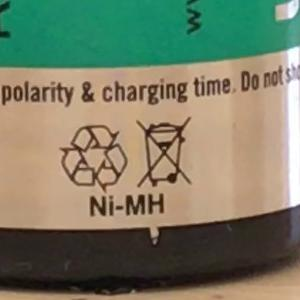keyword: (80, 183, 174, 227)
